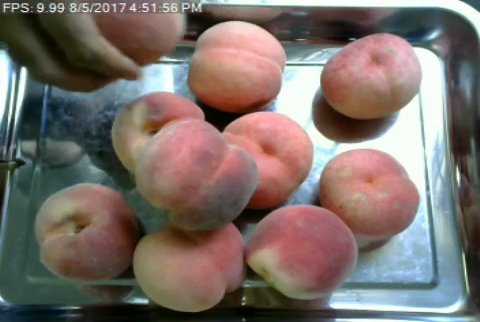Peach: (143, 117, 258, 230), (35, 181, 139, 284), (245, 204, 357, 299), (132, 222, 245, 312), (317, 147, 419, 243), (316, 32, 421, 122), (187, 19, 285, 113), (221, 109, 312, 208), (113, 93, 211, 178)
